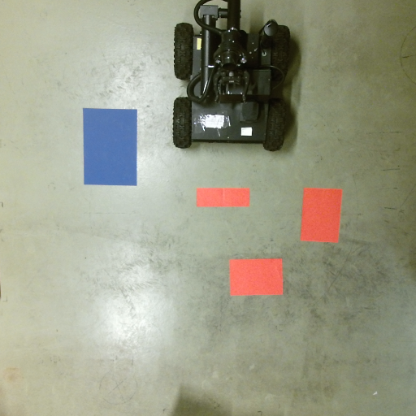Blue: (81, 110, 140, 188)
Jaguar: (170, 0, 292, 154)
Red: (300, 188, 343, 244), (227, 259, 284, 297), (196, 188, 250, 208)
